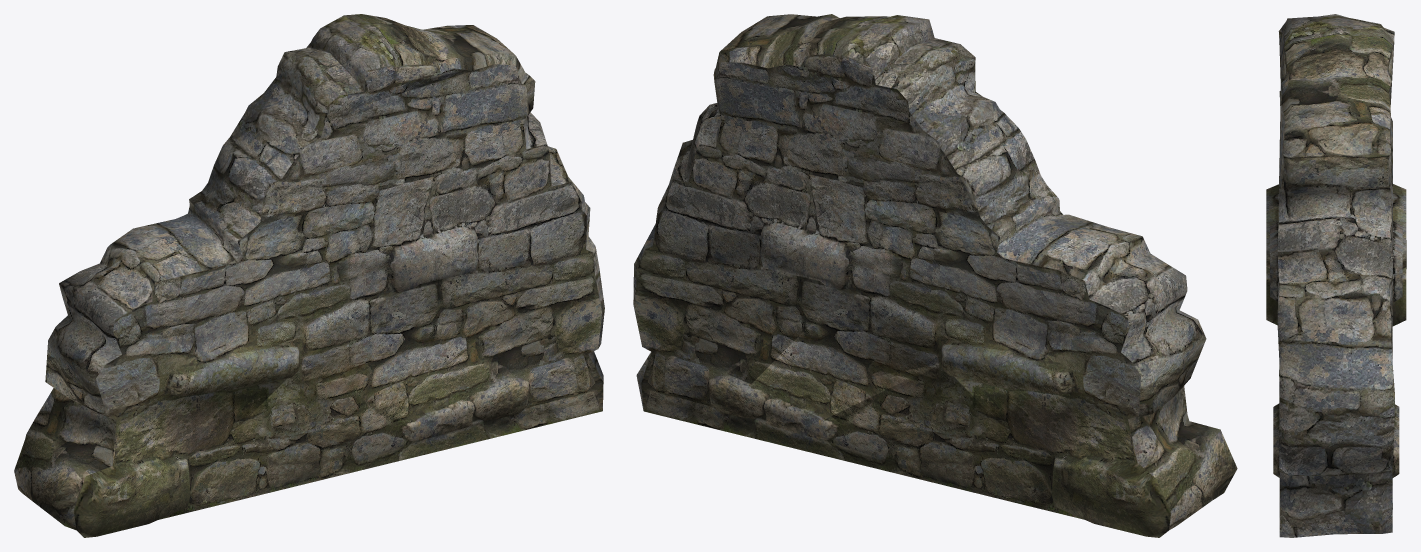
The model's file is Wall02.FBX.
The picture shows the model from 3 angles, left to right: view 1: azimuth 30°, elevation 25°; view 2: azimuth 150°, elevation 25°; view 3: azimuth 270°, elevation 25°; orthographic projection.
Parts seen in each view (by area): view 1: LV_TurtleLake_Lakevillage_StoneWall02_SM_EYE; view 2: LV_TurtleLake_Lakevillage_StoneWall02_SM_EYE; view 3: LV_TurtleLake_Lakevillage_StoneWall02_SM_EYE.
Boxes of the visible parts, left/top/right/bottom form: LV_TurtleLake_Lakevillage_StoneWall02_SM_EYE: left=14, top=14, right=604, bottom=537; LV_TurtleLake_Lakevillage_StoneWall02_SM_EYE: left=633, top=14, right=1237, bottom=537; LV_TurtleLake_Lakevillage_StoneWall02_SM_EYE: left=1266, top=14, right=1406, bottom=537.
Bounding box in the file's own units: 145 × 104 × 32.07.
